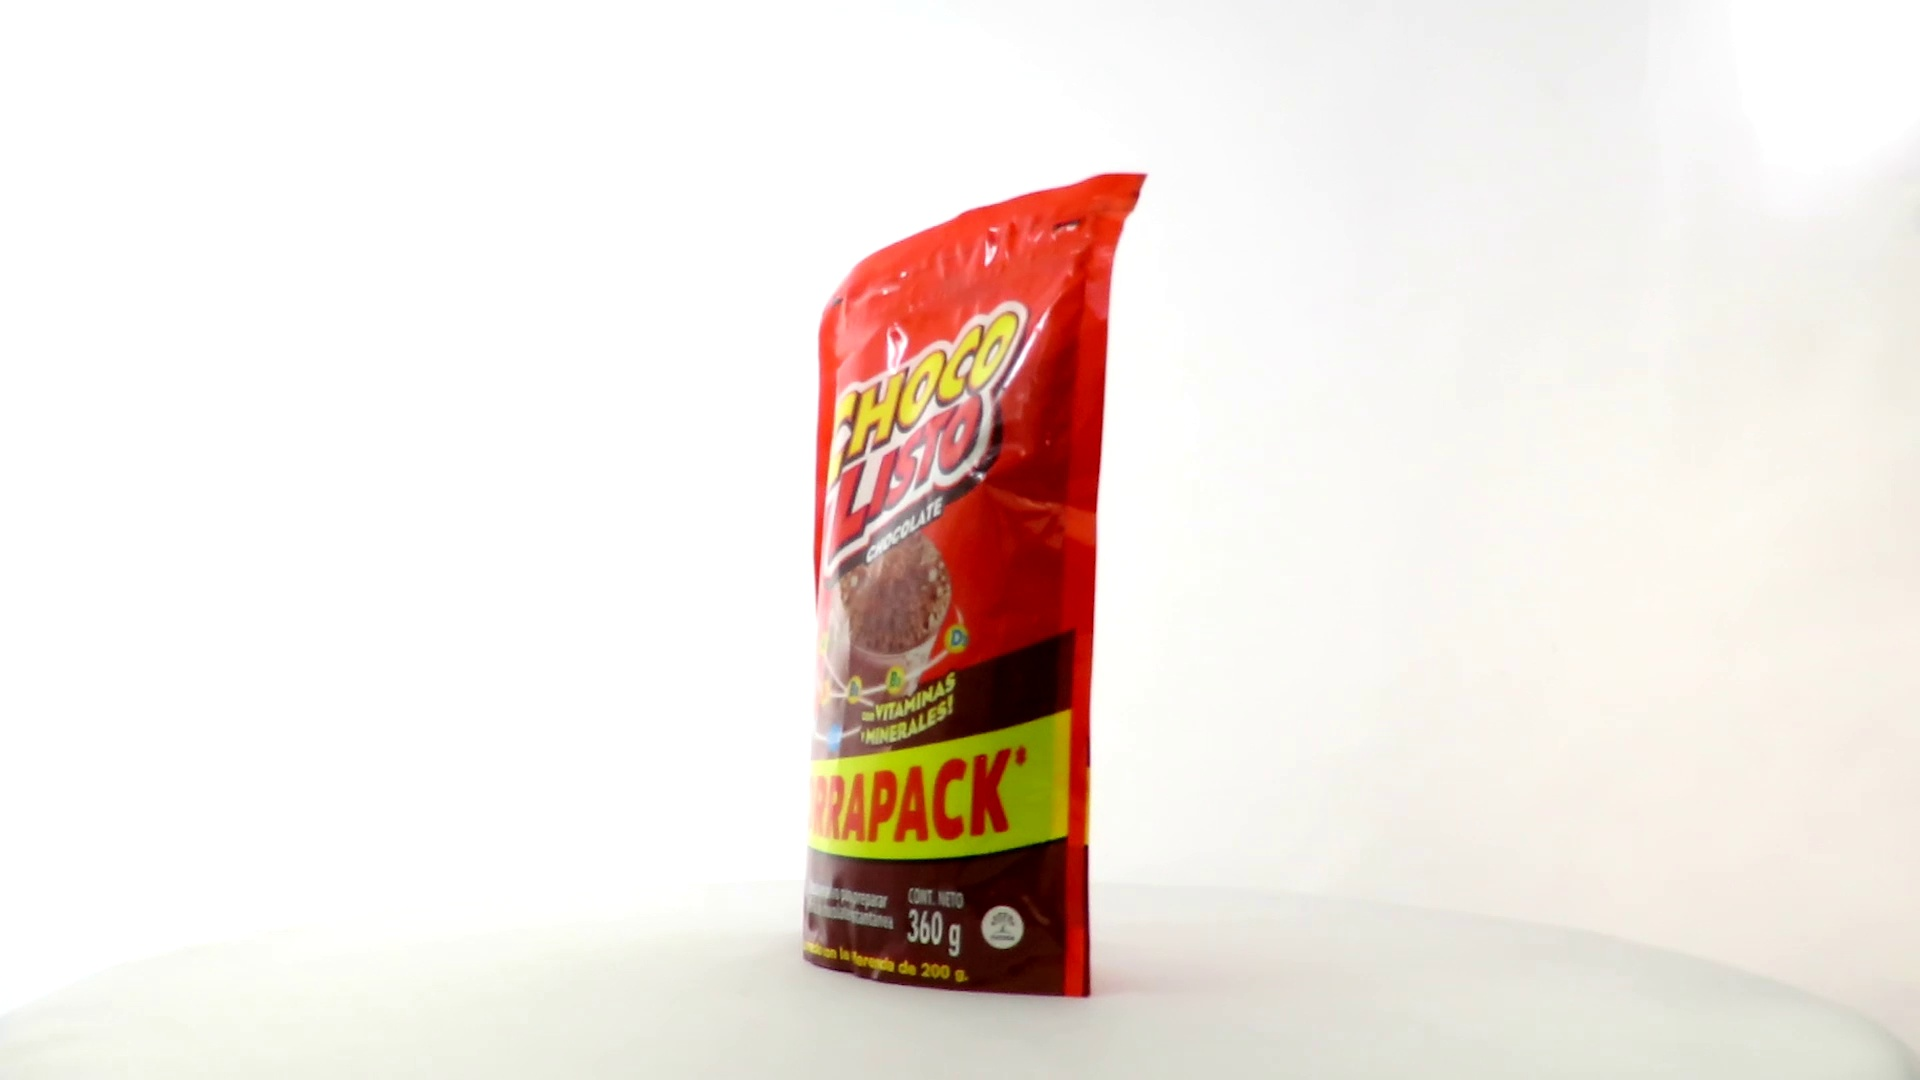COL0170103DYP36000: (796, 167, 1154, 1004)
